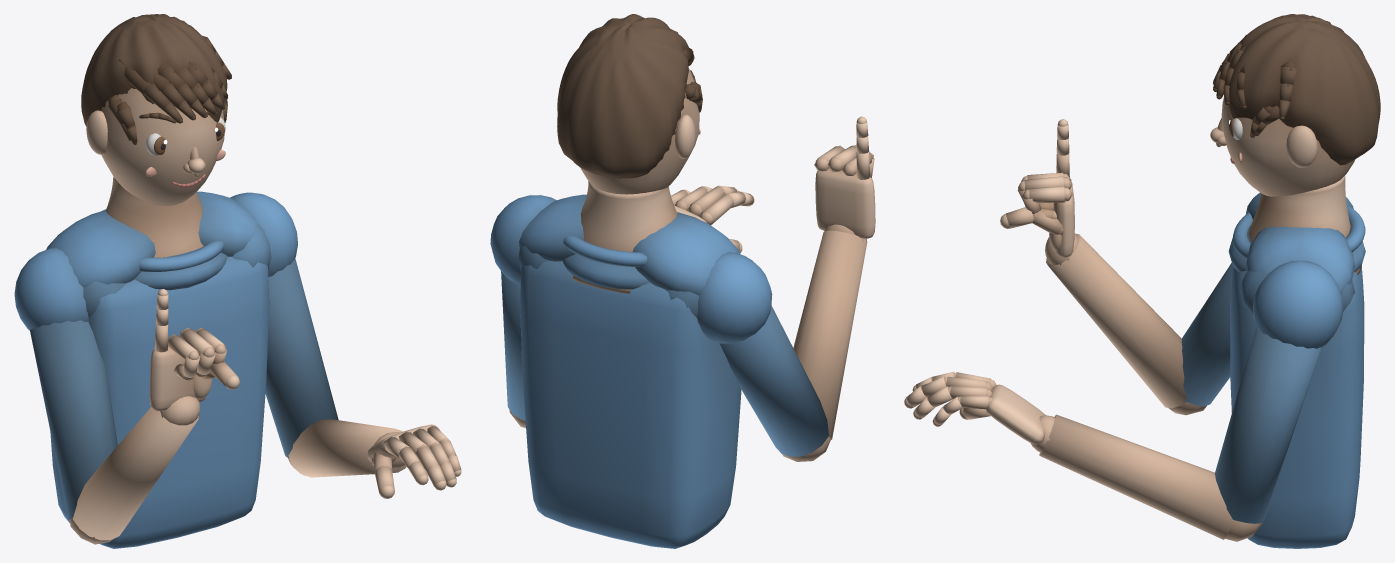
3 renders of one model, left to right at view 1: azimuth 30°, elevation 25°; view 2: azimuth 150°, elevation 25°; view 3: azimuth 270°, elevation 25°, orthographic.
Parts seen in each view (by area): view 1: LSC_Body; view 2: LSC_Body; view 3: LSC_Body.
Boxes of the visible parts, x1,y1,x2,y2 form: LSC_Body: (14,14,461,548); LSC_Body: (490,14,875,548); LSC_Body: (904,14,1380,548).
Size of the model in its own units: 0.4304 by 0.713 by 0.6104.
